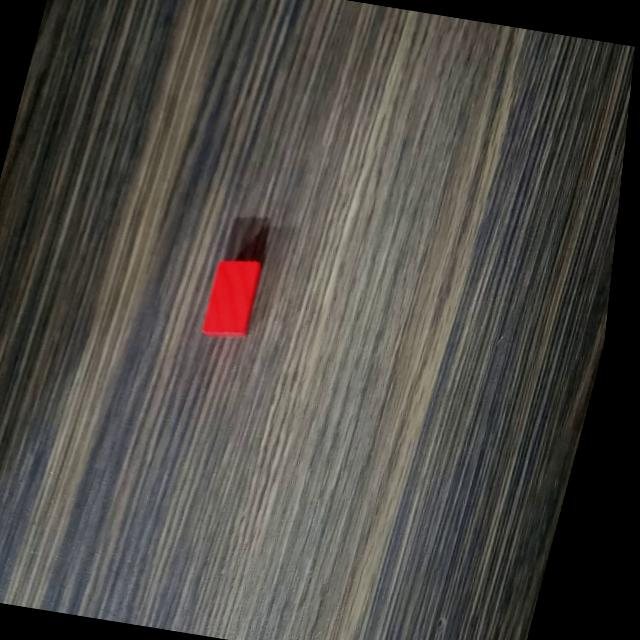cube: (201, 248, 278, 349)
